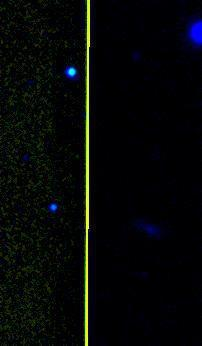star: (176, 17, 202, 47)
